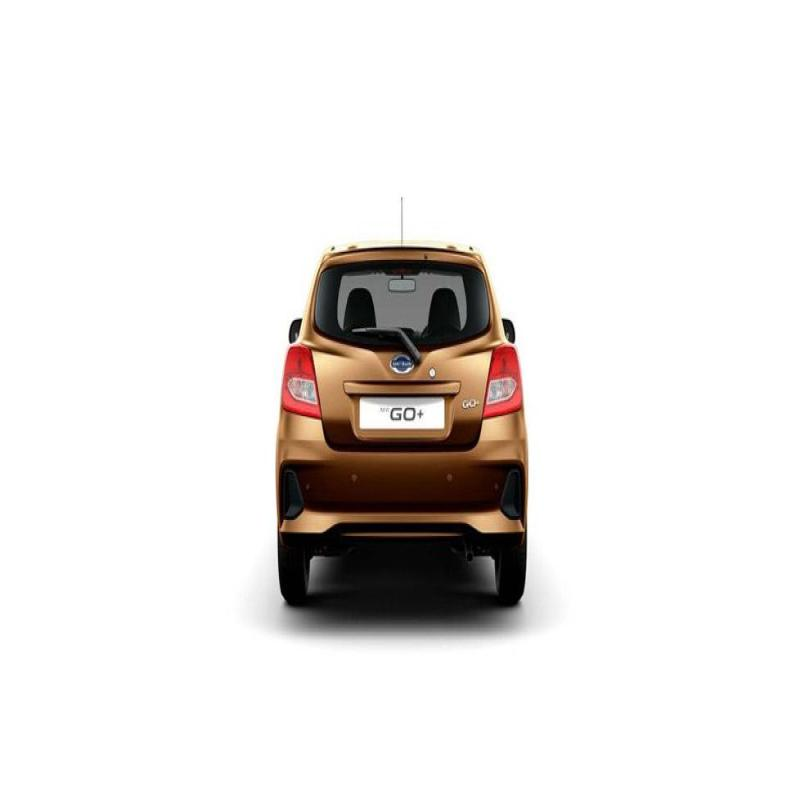car: (261, 223, 561, 661)
